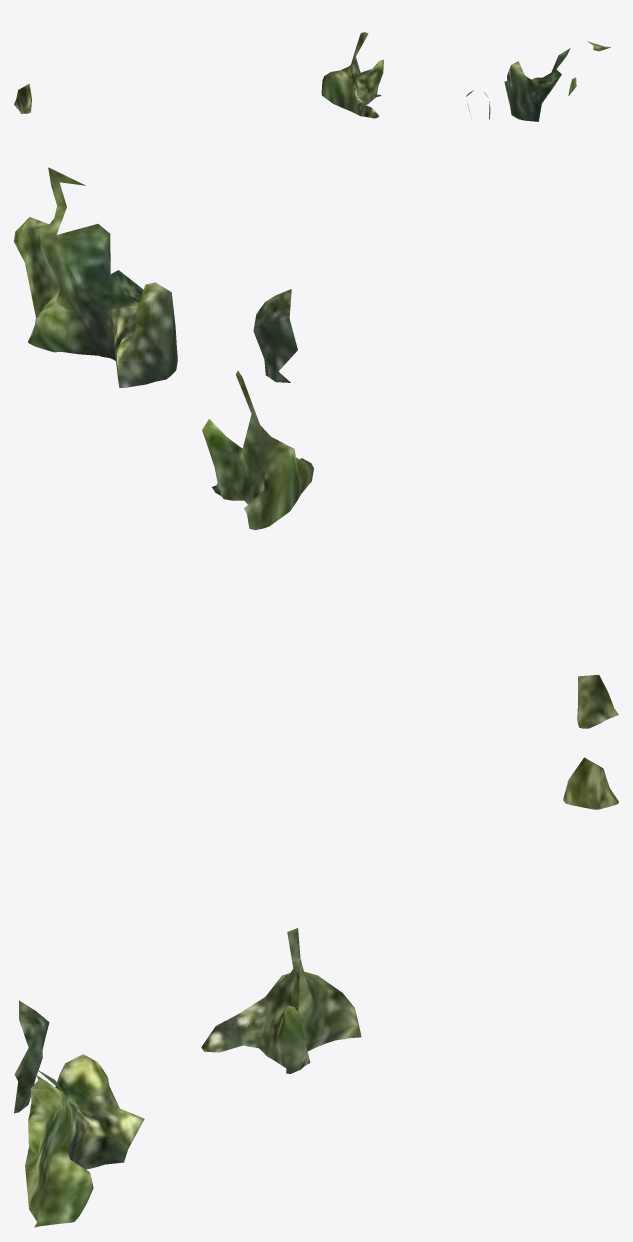
Rendered from Tile_+006_+007_L22_0002210.glb.
3 renders of one model, top to bottom at view 1: azimuth 30°, elevation 25°; view 2: azimuth 150°, elevation 25°; view 3: azimuth 270°, elevation 25°, orthographic. The views are drawn at different scales.
Parts seen in each view (by area): view 1: rtc; view 2: rtc; view 3: rtc.
Boxes of the visible parts, x1,y1,x2,y2 form: rtc: (14, 32, 610, 121); rtc: (14, 167, 618, 728); rtc: (14, 757, 618, 1227).
Size of the model in its own units: 7.64 by 1.42 by 4.39.
1 material, 1 textured.
